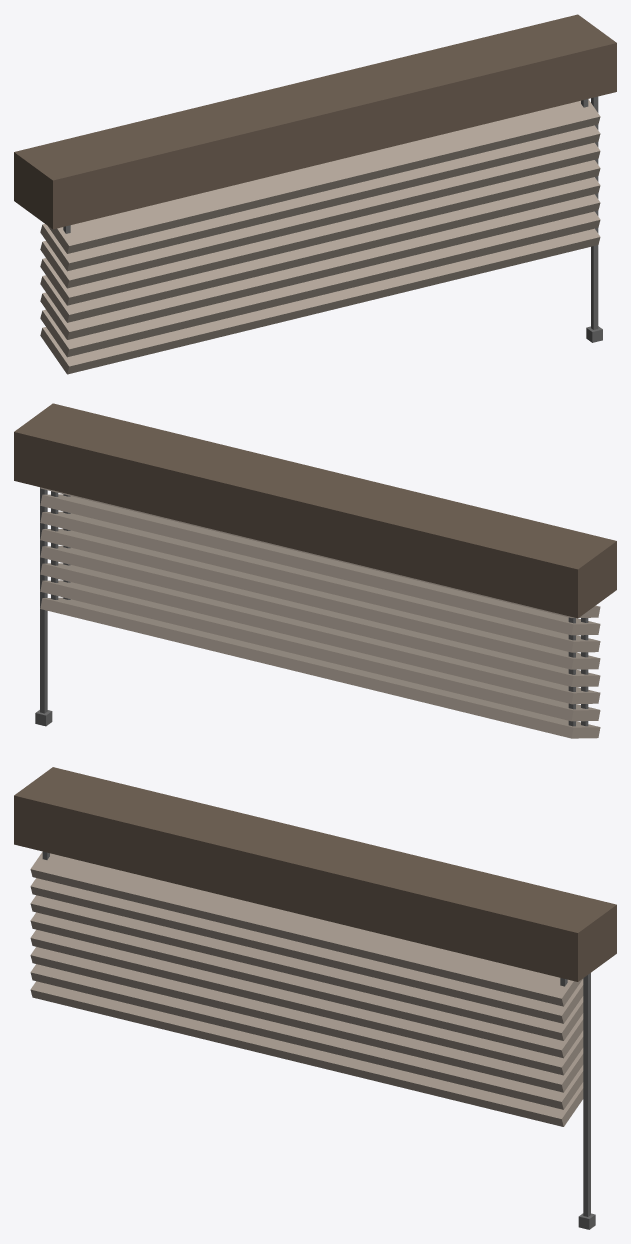
Rendered from Curtains13_C2.fbx.
The picture shows the model from 3 angles, top to bottom: view 1: azimuth 30°, elevation 25°; view 2: azimuth 150°, elevation 25°; view 3: azimuth 330°, elevation 25°; orthographic projection.
Parts seen in each view (by area): view 1: Curtains13_C2; view 2: Curtains13_C2; view 3: Curtains13_C2.
Boxes of the visible parts, x1=… form: Curtains13_C2: x1=14, y1=14, x2=616, y2=374; Curtains13_C2: x1=14, y1=403, x2=616, y2=738; Curtains13_C2: x1=14, y1=767, x2=616, y2=1229.
Size of the model in its own units: 106 by 54.95 by 12.67.
